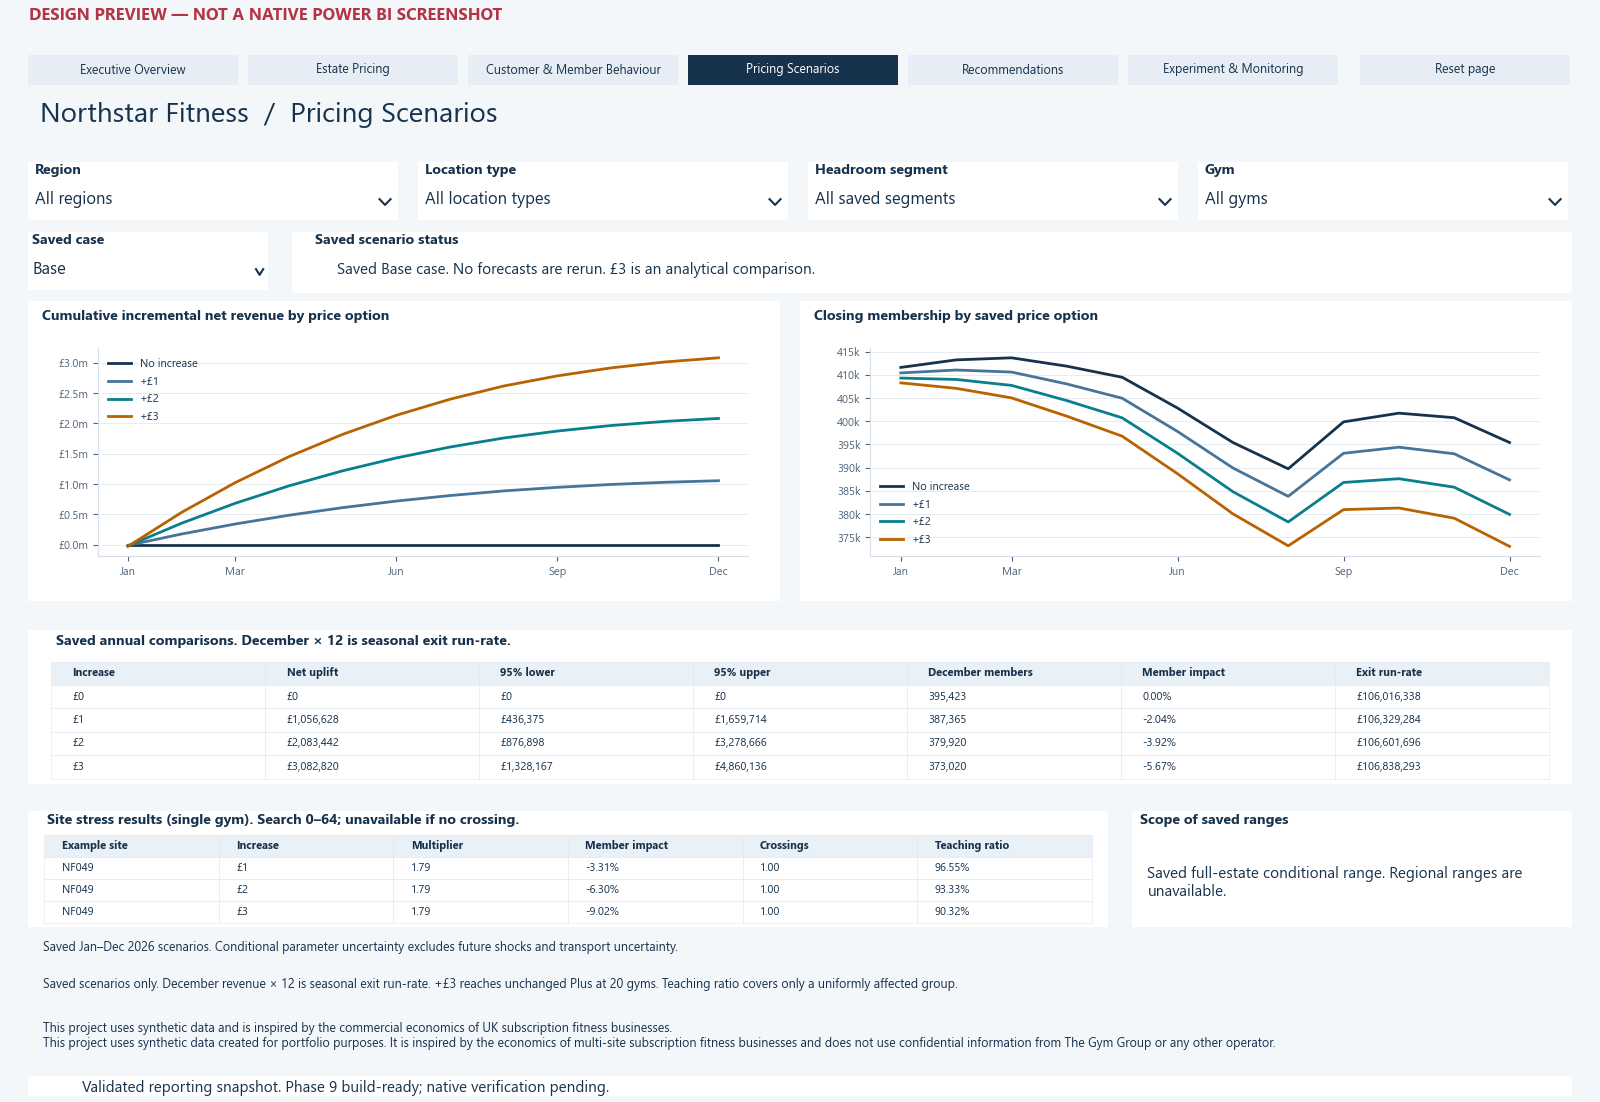

Layout of this report page (visuals, bound fields, positions):
{"tool":"powerbi","page":{"name":"Pricing Scenarios","canvas":[1600,1095],"ordinal":3},"visuals":[{"type":"slicer","title":"Saved case","fields":{"Values":["DimCase.case"]},"box":[28,184,240,58],"z":0},{"type":"card","title":"Saved scenario status","fields":{"Values":["CommercialMeasures.Scenario Selection Status"]},"box":[292,184,1280,61],"z":1},{"type":"lineChart","title":"Cumulative incremental net revenue by price option","fields":{"Category":["DimScenarioMonth.month_name"],"Series":["DimPrice.label"],"Y":["CommercialMeasures.Scenario Cumulative Increment"]},"box":[28,253,752,300],"z":2},{"type":"lineChart","title":"Closing membership by saved price option","fields":{"Category":["DimScenarioMonth.month_name"],"Series":["DimPrice.label"],"Y":["CommercialMeasures.Scenario Monthly Closing"]},"box":[800,253,772,300],"z":3},{"type":"tableEx","title":"Saved annual comparisons. December × 12 is seasonal exit run-rate.","fields":{"Values":["DimPrice.label","CommercialMeasures.Scenario Incremental Revenue","CommercialMeasures.Scenario Increment lower","CommercialMeasures.Scenario Increment upper","CommercialMeasures.Scenario December Members","CommercialMeasures.Scenario Member Impact","CommercialMeasures.Scenario Joins","CommercialMeasures.Scenario Churn","CommercialMeasures.Scenario Downgrade Rate","CommercialMeasures.Scenario Subscription Yield","CommercialMeasures.Scenario ARPMM","CommercialMeasures.Scenario Exit Run-rate"]},"box":[28,582,1544,154],"z":4},{"type":"tableEx","title":"Site stress results (single gym). Search 0–64; unavailable if no crossing.","fields":{"Values":["DimGym.gym_id","DimPrice.label","CommercialMeasures.Break-even Multiplier","CommercialMeasures.Break-even Member Impact","CommercialMeasures.Break-even Crossings","CommercialMeasures.Teaching Retention Ratio"]},"box":[28,763,1080,116],"z":5},{"type":"card","title":"Scope of saved ranges","fields":{"Values":["CommercialMeasures.Uncertainty Scope"]},"box":[1132,763,440,116],"z":6},{"type":"slicer","title":"Region","fields":{"Values":["DimGym.region"]},"box":[28,114,370,58],"z":7},{"type":"slicer","title":"Location type","fields":{"Values":["DimGym.location_type"]},"box":[418,114,370,58],"z":8},{"type":"slicer","title":"Headroom segment","fields":{"Values":["DimGym.segment"]},"box":[808,114,370,58],"z":9},{"type":"slicer","title":"Gym","fields":{"Values":["DimGym.gym_id"]},"box":[1198,114,370,58],"z":10},{"type":"textbox","box":[28,47,1220,51],"z":11},{"type":"textbox","box":[28,889,1544,33],"z":12},{"type":"card","title":"Snapshot ID. Native acceptance is recorded in powerbi/NATIVE_VERIFICATION.md.","fields":{"Values":["CommercialMeasures.Snapshot Version"]},"box":[28,1026,1544,56],"z":13},{"type":"textbox","box":[28,925,1544,35],"z":14},{"type":"textbox","box":[28,966,1544,62],"z":15},{"type":"actionButton","title":"Overview","box":[28,7,210,30],"z":16},{"type":"actionButton","title":"Estate Pricing","box":[248,7,210,30],"z":17},{"type":"actionButton","title":"Member Behaviour","box":[468,7,210,30],"z":18},{"type":"actionButton","title":"Scenarios","box":[688,7,210,30],"z":19},{"type":"actionButton","title":"Recommendations","box":[908,7,210,30],"z":20},{"type":"actionButton","title":"Experiment & Monitoring","box":[1128,7,210,30],"z":21},{"type":"actionButton","title":"Reset page","box":[1360,7,210,30],"z":22}]}

Visuals, with their boxes in screenshot pixels (x1, y1, x2, y2), scaled from the page's 1600x1095 canvas onto the 1600x1102 screenshot:
"Saved case" slicer: [left=28, top=185, right=268, bottom=244]
"Saved scenario status" card: [left=292, top=185, right=1572, bottom=247]
"Cumulative incremental net revenue by price option" lineChart: [left=28, top=255, right=780, bottom=557]
"Closing membership by saved price option" lineChart: [left=800, top=255, right=1572, bottom=557]
"Saved annual comparisons. December × 12 is seasonal exit run-rate." tableEx: [left=28, top=586, right=1572, bottom=741]
"Site stress results (single gym). Search 0–64; unavailable if no crossing." tableEx: [left=28, top=768, right=1108, bottom=885]
"Scope of saved ranges" card: [left=1132, top=768, right=1572, bottom=885]
"Region" slicer: [left=28, top=115, right=398, bottom=173]
"Location type" slicer: [left=418, top=115, right=788, bottom=173]
"Headroom segment" slicer: [left=808, top=115, right=1178, bottom=173]
"Gym" slicer: [left=1198, top=115, right=1568, bottom=173]
textbox: [left=28, top=47, right=1248, bottom=99]
textbox: [left=28, top=895, right=1572, bottom=928]
"Snapshot ID. Native acceptance is recorded in powerbi/NATIVE_VERIFICATION.md." card: [left=28, top=1033, right=1572, bottom=1089]
textbox: [left=28, top=931, right=1572, bottom=966]
textbox: [left=28, top=972, right=1572, bottom=1035]
"Overview" actionButton: [left=28, top=7, right=238, bottom=37]
"Estate Pricing" actionButton: [left=248, top=7, right=458, bottom=37]
"Member Behaviour" actionButton: [left=468, top=7, right=678, bottom=37]
"Scenarios" actionButton: [left=688, top=7, right=898, bottom=37]
"Recommendations" actionButton: [left=908, top=7, right=1118, bottom=37]
"Experiment & Monitoring" actionButton: [left=1128, top=7, right=1338, bottom=37]
"Reset page" actionButton: [left=1360, top=7, right=1570, bottom=37]
